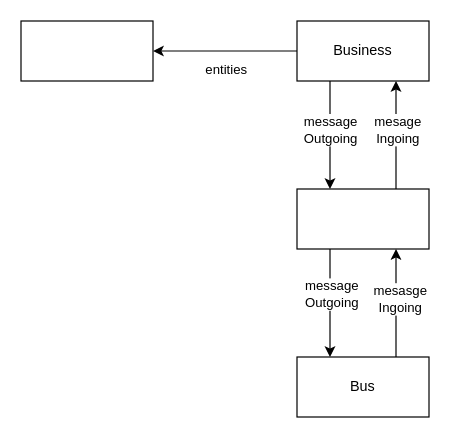
The diagram is 450 pixels wide and 438 high, and some of its shapes have lost their labels. Each missing label, with the box of its shape:
Micro: (296, 188, 429, 249)
Persistence: (20, 20, 153, 81)
